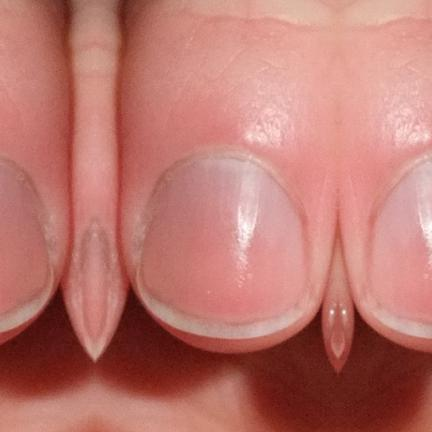Nail: (135, 158, 307, 339), (368, 161, 432, 339), (0, 164, 53, 333)
